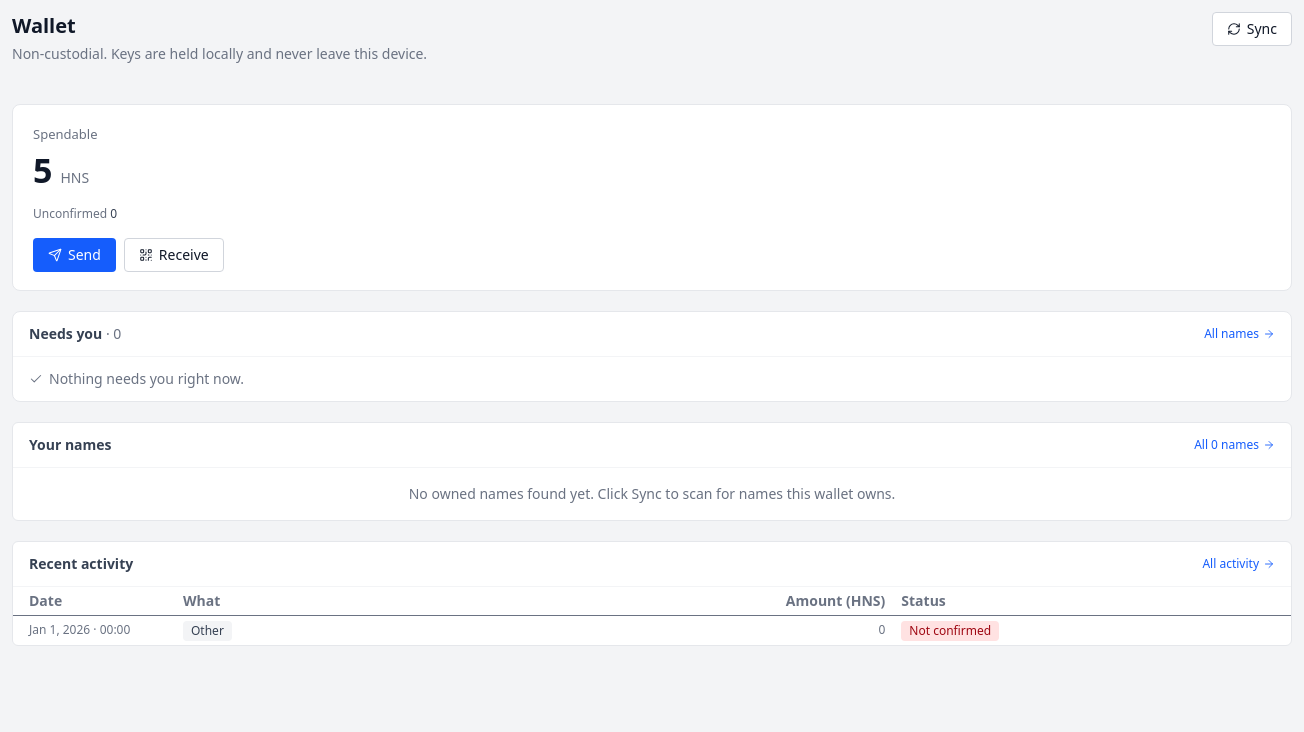
Test case: WalletView — auction UX › a dropped or failed draft's hint says why
Hover over the element showing "Not confirmed".
mouse_move(950, 630)  # box [901,620,999,640]
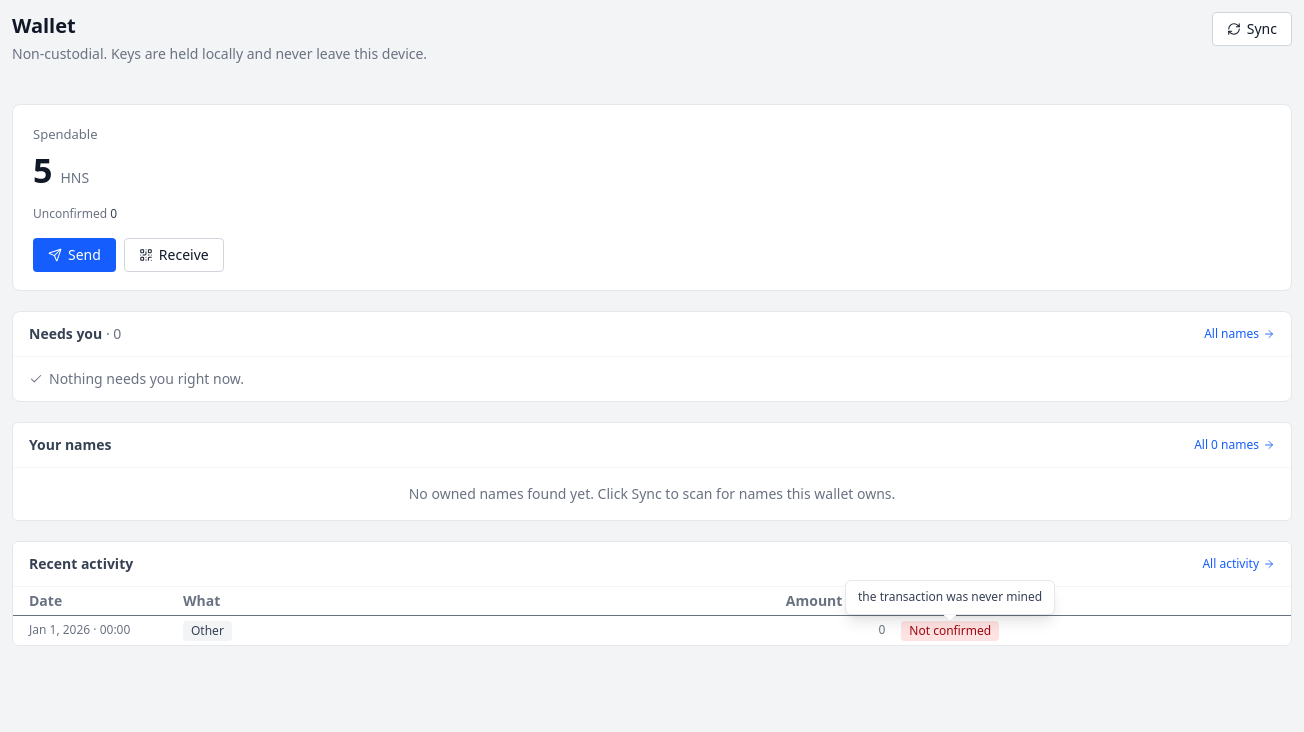
Expected: the tooltip "the transaction was never mined" is shown, [845,580,1055,614]
